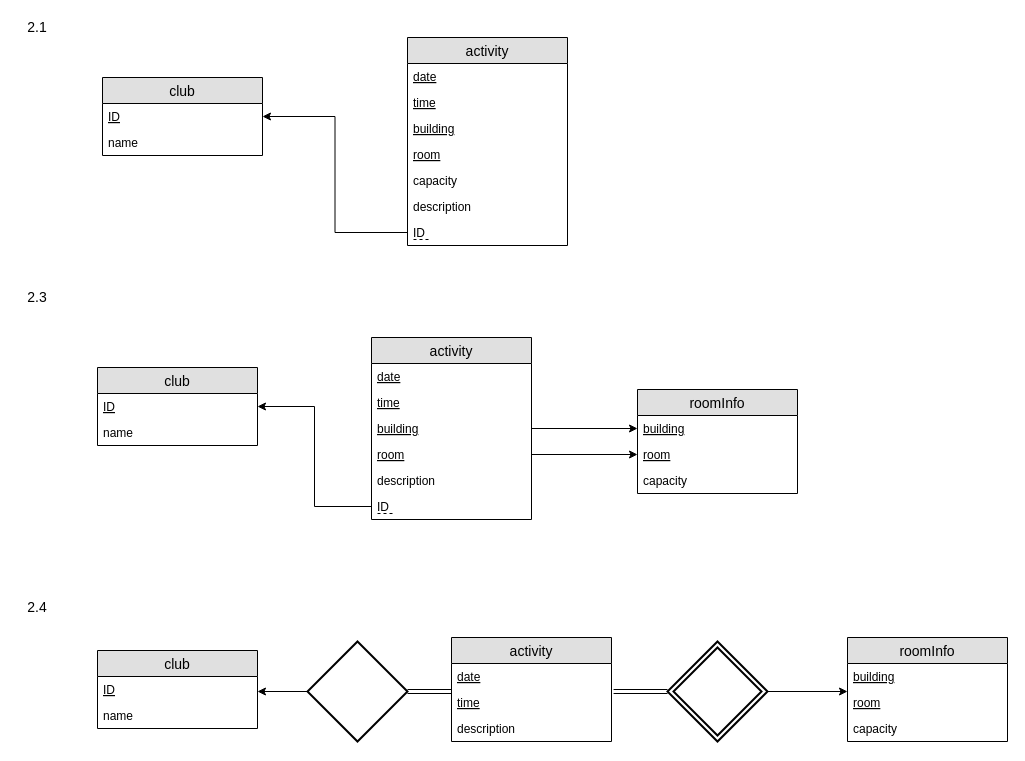
This 1025x761 diagram has some shape labels left out. Each missing label, with the centre of its shape:
in: (717,691)
sponsor: (357,691)
